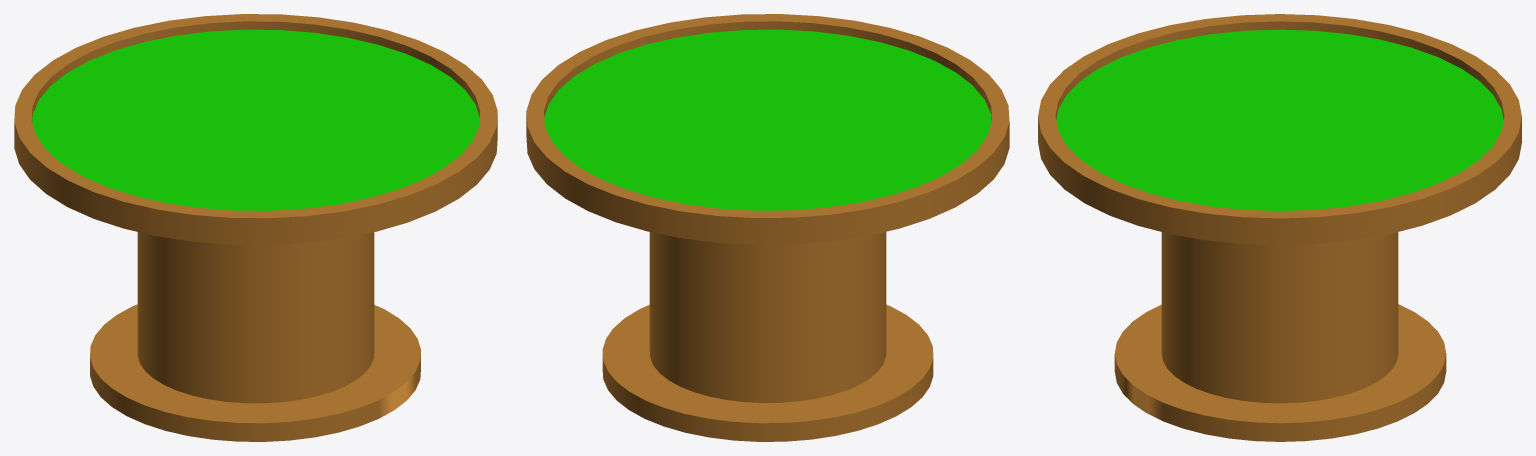
Rendered from table.fbx.
The picture shows the model from 3 angles, left to right: view 1: azimuth 30°, elevation 25°; view 2: azimuth 150°, elevation 25°; view 3: azimuth 270°, elevation 25°; orthographic projection.
Parts seen in each view (by area): view 1: Cylinder; view 2: Cylinder; view 3: Cylinder.
Boxes of the visible parts, <box> form: Cylinder: <box>14,14,497,441</box>; Cylinder: <box>526,14,1009,441</box>; Cylinder: <box>1038,14,1521,441</box>.
Bounding box in the file's own units: 200 × 117 × 200.
